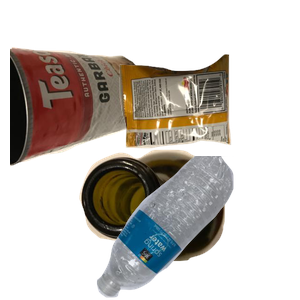glass: (77, 147, 295, 300)
metal: (10, 44, 151, 203)
plastic: (94, 156, 300, 300)
trash: (117, 52, 300, 193)
